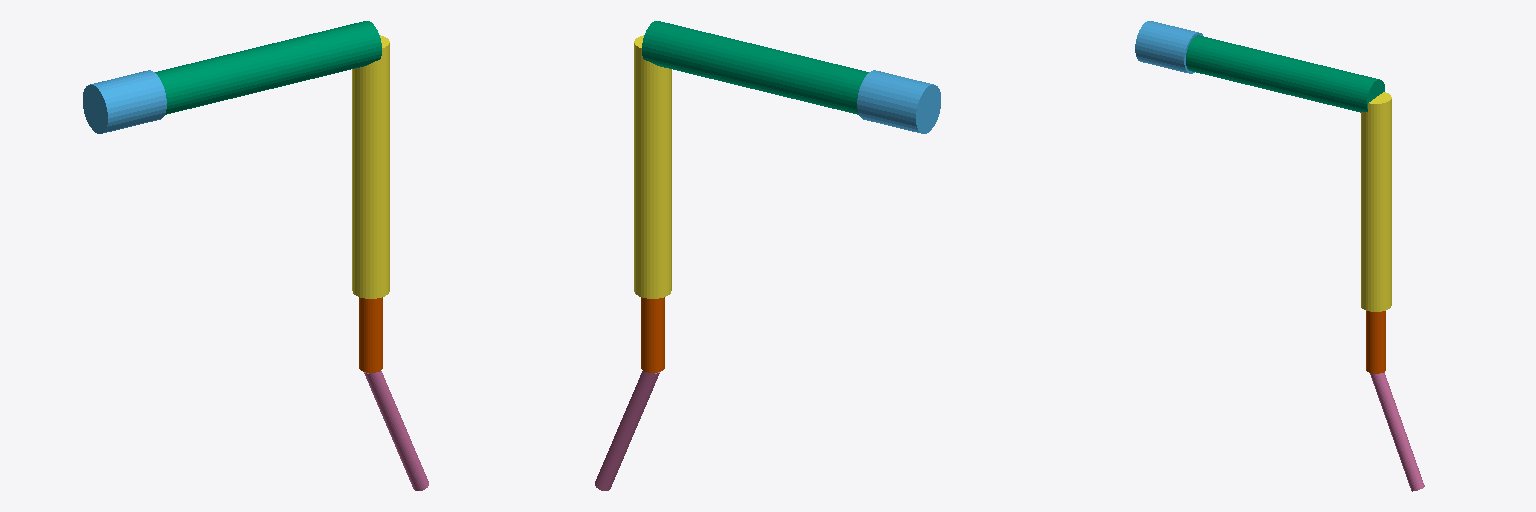
robot.urdf — abb_irb_1520id:
<?xml version="1.0"?>
<!--
  ABB IRB 1520ID
  GENERATED by weldforge.kin.urdf from data/robots/. Do not edit by
  hand: regenerate instead, or the URDF and the planner's kinematics
  will drift apart.

  Link inertias are placeholders (uniform boxes). Replace them with
  manufacturer data before using this model for dynamics.
-->
<robot name="abb_irb_1520id">

  <link name="base_link">
    <inertial>
      <origin xyz="0 0 0" rpy="0 0 0"/>
      <mass value="50.0000"/>
      <inertia ixx="0.750000" ixy="0" ixz="0" iyy="0.750000" iyz="0" izz="0.750000"/>
    </inertial>
  </link>

  <joint name="joint_1" type="revolute">
    <parent link="base_link"/>
    <child link="link_1"/>
    <origin xyz="0.000000000 -0.000000000 0.453000000" rpy="0.000000000 -0.000000000 0.000000000"/>
    <axis xyz="0 0 1"/>
    <limit lower="-2.967059728" upper="2.967059728" effort="1000" velocity="2.967060"/>
    <dynamics damping="0.5" friction="0.1"/>
  </joint>

  <link name="link_1">
    <inertial>
      <origin xyz="0 0 0" rpy="0 0 0"/>
      <mass value="40.0000"/>
      <inertia ixx="0.170667" ixy="0" ixz="0" iyy="0.170667" iyz="0" izz="0.170667"/>
    </inertial>
    <visual>
      <origin xyz="0.080000000 0.000000000 0.000000000" rpy="-0.000000000 1.570796327 0.000000000"/>
      <geometry><cylinder radius="0.0600" length="0.1600"/></geometry>
    </visual>
    <collision>
      <origin xyz="0.080000000 0.000000000 0.000000000" rpy="-0.000000000 1.570796327 0.000000000"/>
      <geometry><cylinder radius="0.0600" length="0.1600"/></geometry>
    </collision>
  </link>

  <joint name="joint_2" type="revolute">
    <parent link="link_1"/>
    <child link="link_2"/>
    <origin xyz="0.160000000 0.000000000 0.000000000" rpy="-1.570796327 0.000000000 0.000000000"/>
    <axis xyz="0 0 1"/>
    <limit lower="-1.570796327" upper="2.617993878" effort="1000" velocity="2.967060"/>
    <dynamics damping="0.5" friction="0.1"/>
  </joint>

  <link name="link_2">
    <inertial>
      <origin xyz="0 0 0" rpy="0 0 0"/>
      <mass value="35.0000"/>
      <inertia ixx="2.030583" ixy="0" ixz="0" iyy="2.030583" iyz="0" izz="2.030583"/>
    </inertial>
    <visual>
      <origin xyz="0.295000000 -0.000000000 0.000000000" rpy="-0.000000000 1.570796327 0.000000000"/>
      <geometry><cylinder radius="0.0520" length="0.5900"/></geometry>
    </visual>
    <collision>
      <origin xyz="0.295000000 -0.000000000 0.000000000" rpy="-0.000000000 1.570796327 0.000000000"/>
      <geometry><cylinder radius="0.0520" length="0.5900"/></geometry>
    </collision>
  </link>

  <joint name="joint_3" type="revolute">
    <parent link="link_2"/>
    <child link="link_3"/>
    <origin xyz="0.590000000 -0.000000000 0.000000000" rpy="0.000000000 -0.000000000 0.000000000"/>
    <axis xyz="0 0 1"/>
    <limit lower="-1.745329252" upper="1.396263402" effort="1000" velocity="2.967060"/>
    <dynamics damping="0.5" friction="0.1"/>
  </joint>

  <link name="link_3">
    <inertial>
      <origin xyz="0 0 0" rpy="0 0 0"/>
      <mass value="30.0000"/>
      <inertia ixx="2.093045" ixy="0" ixz="0" iyy="2.093045" iyz="0" izz="2.093045"/>
    </inertial>
    <visual>
      <origin xyz="0.000000000 0.323500000 0.000000000" rpy="-1.570796327 -0.000000000 0.000000000"/>
      <geometry><cylinder radius="0.0440" length="0.6470"/></geometry>
    </visual>
    <collision>
      <origin xyz="0.000000000 0.323500000 0.000000000" rpy="-1.570796327 -0.000000000 0.000000000"/>
      <geometry><cylinder radius="0.0440" length="0.6470"/></geometry>
    </collision>
  </link>

  <joint name="joint_4" type="revolute">
    <parent link="link_3"/>
    <child link="link_4"/>
    <origin xyz="0.000000000 0.647000000 0.000000000" rpy="-1.570796327 0.000000000 0.000000000"/>
    <axis xyz="0 0 1"/>
    <limit lower="-2.705260341" upper="2.705260341" effort="1000" velocity="5.585054"/>
    <dynamics damping="0.5" friction="0.1"/>
  </joint>

  <link name="link_4">
    <inertial>
      <origin xyz="0 0 0" rpy="0 0 0"/>
      <mass value="25.0000"/>
      <inertia ixx="0.010417" ixy="0" ixz="0" iyy="0.010417" iyz="0" izz="0.010417"/>
    </inertial>
  </link>

  <joint name="joint_5" type="revolute">
    <parent link="link_4"/>
    <child link="link_5"/>
    <origin xyz="0.000000000 -0.000000000 0.000000000" rpy="1.570796327 -0.000000000 0.000000000"/>
    <axis xyz="0 0 1"/>
    <limit lower="-2.356194490" upper="2.356194490" effort="1000" velocity="6.632251"/>
    <dynamics damping="0.5" friction="0.1"/>
  </joint>

  <link name="link_5">
    <inertial>
      <origin xyz="0 0 0" rpy="0 0 0"/>
      <mass value="20.0000"/>
      <inertia ixx="0.133333" ixy="0" ixz="0" iyy="0.133333" iyz="0" izz="0.133333"/>
    </inertial>
    <visual>
      <origin xyz="0.000000000 0.100000000 0.000000000" rpy="-1.570796327 -0.000000000 0.000000000"/>
      <geometry><cylinder radius="0.0280" length="0.2000"/></geometry>
    </visual>
    <collision>
      <origin xyz="0.000000000 0.100000000 0.000000000" rpy="-1.570796327 -0.000000000 0.000000000"/>
      <geometry><cylinder radius="0.0280" length="0.2000"/></geometry>
    </collision>
  </link>

  <joint name="joint_6" type="revolute">
    <parent link="link_5"/>
    <child link="link_6"/>
    <origin xyz="0.000000000 0.200000000 0.000000000" rpy="-1.570796327 0.000000000 0.000000000"/>
    <axis xyz="0 0 1"/>
    <limit lower="-3.490658504" upper="3.490658504" effort="1000" velocity="8.028515"/>
    <dynamics damping="0.5" friction="0.1"/>
  </joint>

  <link name="link_6">
    <inertial>
      <origin xyz="0 0 0" rpy="0 0 0"/>
      <mass value="15.0000"/>
      <inertia ixx="0.333062" ixy="0" ixz="0" iyy="0.333062" iyz="0" izz="0.333062"/>
    </inertial>
    <visual>
      <origin xyz="0.068365703 0.000000000 0.169211053" rpy="0.000000000 0.383972435 0.000000000"/>
      <geometry><cylinder radius="0.0200" length="0.3650"/></geometry>
    </visual>
    <collision>
      <origin xyz="0.068365703 0.000000000 0.169211053" rpy="0.000000000 0.383972435 0.000000000"/>
      <geometry><cylinder radius="0.0200" length="0.3650"/></geometry>
    </collision>
  </link>

  <joint name="joint_tool" type="fixed">
    <parent link="link_6"/>
    <child link="torch_tip"/>
    <origin xyz="0.136731407 0.000000000 0.338422107" rpy="0.000000000 0.383972435 0.000000000"/>
  </joint>

  <link name="torch_tip">
    <inertial>
      <origin xyz="0 0 0" rpy="0 0 0"/>
      <mass value="2.0000"/>
      <inertia ixx="0.000833" ixy="0" ixz="0" iyy="0.000833" iyz="0" izz="0.000833"/>
    </inertial>
  </link>

</robot>

--- Facts derived from the render (not from the file) ---
Views: 3 orthographic renders of the robot side by side, from view 1: azimuth 30°, elevation 25°; view 2: azimuth 150°, elevation 25°; view 3: azimuth 330°, elevation 25°.
Model abb_irb_1520id with 8 links and 7 joints (6 revolute, 1 fixed), rooted at base_link, posed every joint at zero.
Links seen in each view (by area): view 1: link_2, link_3, link_1, link_6, link_5; view 2: link_2, link_3, link_1, link_6, link_5; view 3: link_2, link_3, link_1, link_6, link_5.
Boxes of the visible links, x1,y1,x2,y2 form: link_2: (155, 21, 381, 114); link_3: (352, 35, 389, 298); link_1: (83, 70, 166, 133); link_6: (364, 371, 428, 490); link_5: (359, 297, 382, 372); link_2: (642, 21, 868, 114); link_3: (634, 35, 671, 298); link_1: (857, 70, 940, 133); link_6: (595, 371, 659, 490); link_5: (641, 297, 664, 372); link_2: (1186, 35, 1384, 112); link_3: (1361, 92, 1391, 311); link_1: (1135, 21, 1202, 73); link_6: (1370, 372, 1424, 491); link_5: (1366, 311, 1385, 373).
Bounding box of the posed robot: 0.9053 × 0.12 × 1.25 m (x, y, z).
Geometry: primitives only (box / cylinder / sphere), no mesh files.
